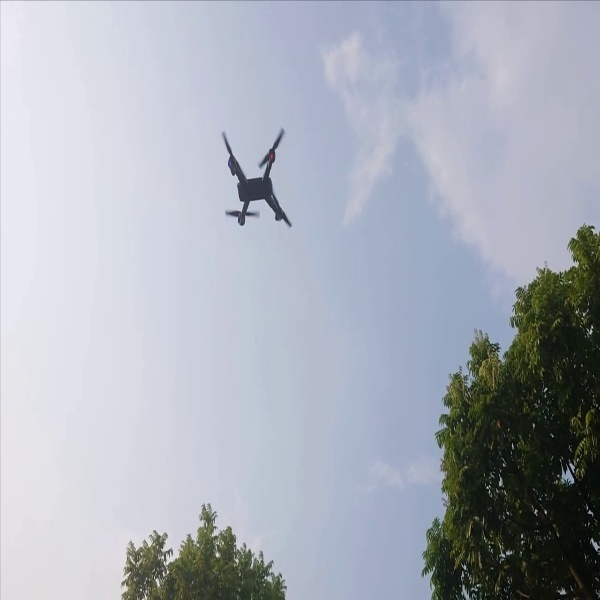drone: (209, 121, 307, 242)
